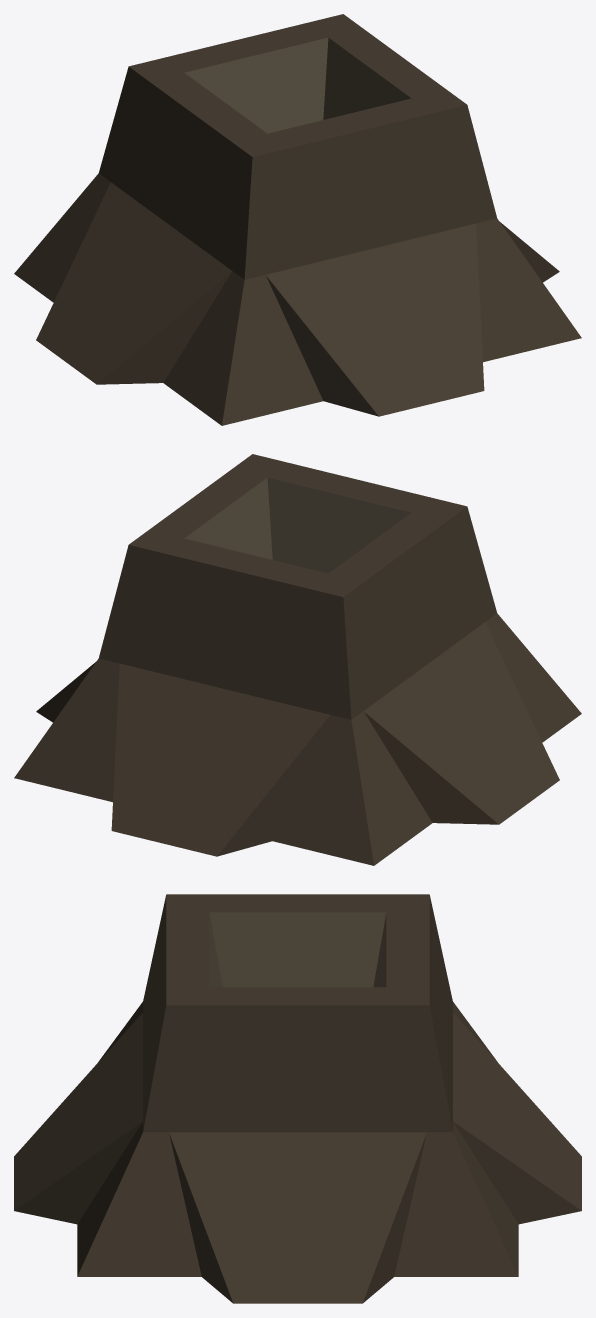
The model's file is totholz_kante.glb.
3 renders of one model, top to bottom at view 1: azimuth 30°, elevation 25°; view 2: azimuth 150°, elevation 25°; view 3: azimuth 270°, elevation 25°, orthographic. The views are drawn at different scales.
Parts seen in each view (by area): view 1: totholz_kante; view 2: totholz_kante; view 3: totholz_kante.
Boxes of the visible parts, x1,y1,x2,y2 form: totholz_kante: (14,14,581,425); totholz_kante: (14,454,581,865); totholz_kante: (14,894,581,1303).
Size of the model in its own units: 1.65 by 0.75 by 1.65.
